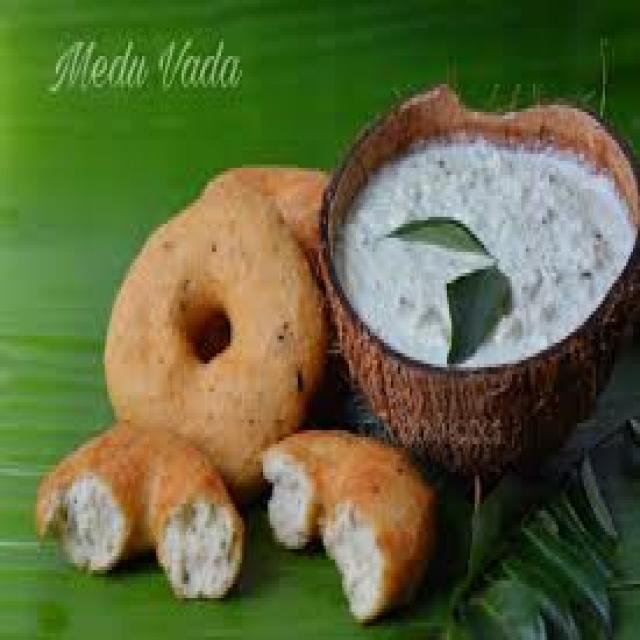MEDU VADA: (91, 183, 336, 481), (31, 427, 246, 604), (261, 436, 431, 627), (198, 165, 325, 244)
